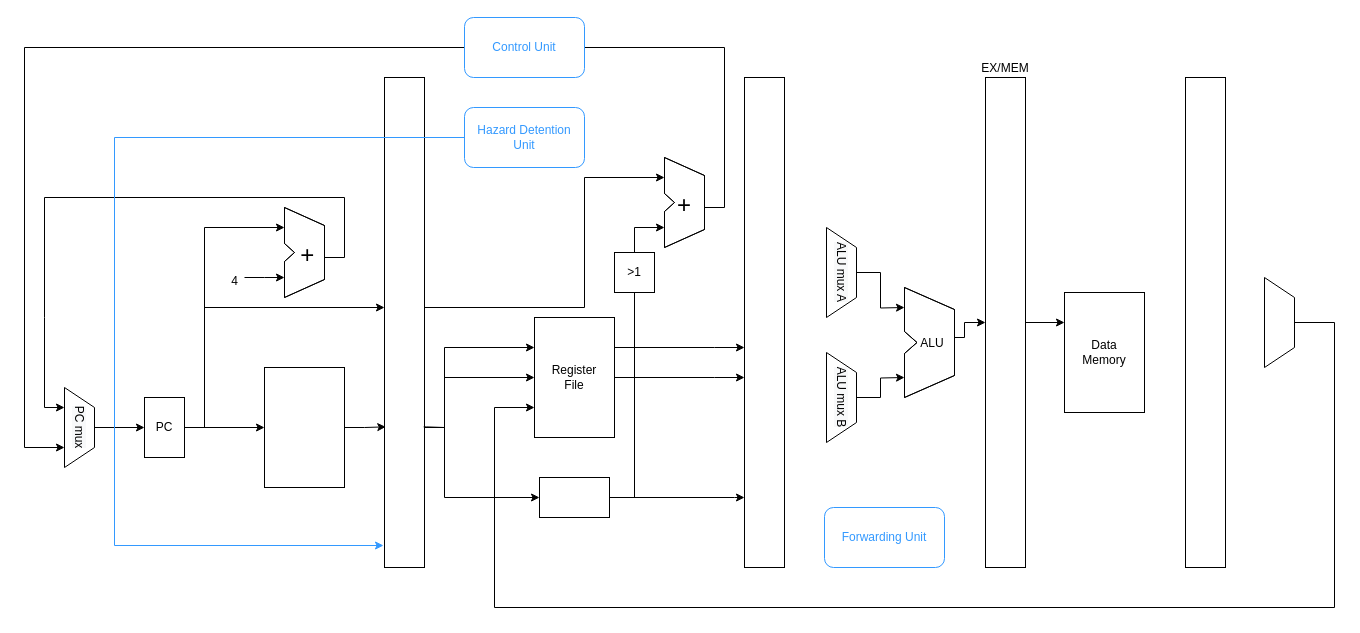
This 1360x633 diagram has some shape labels left out. The shapes that lost their labels are listed below. From the top down, each one's centre as x and y in pixels, then its label:
At pixel 404 322: "IF/ID".
At pixel 764 322: "ID/EX".
At pixel 1205 322: "MEM/WB".
At pixel 1279 322: "WB mux".
At pixel 304 427: "Instruction Memory".
At pixel 574 497: "Immediate Generator".
